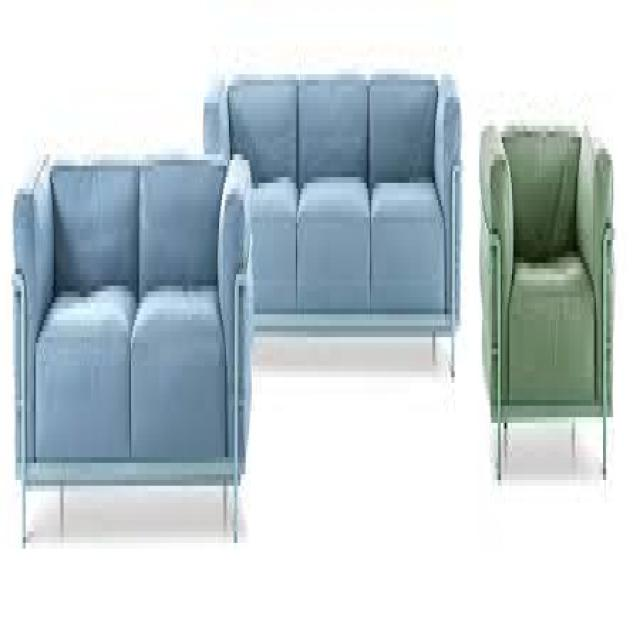Sofa: (8, 112, 270, 595), (195, 34, 474, 423), (484, 94, 624, 512)
